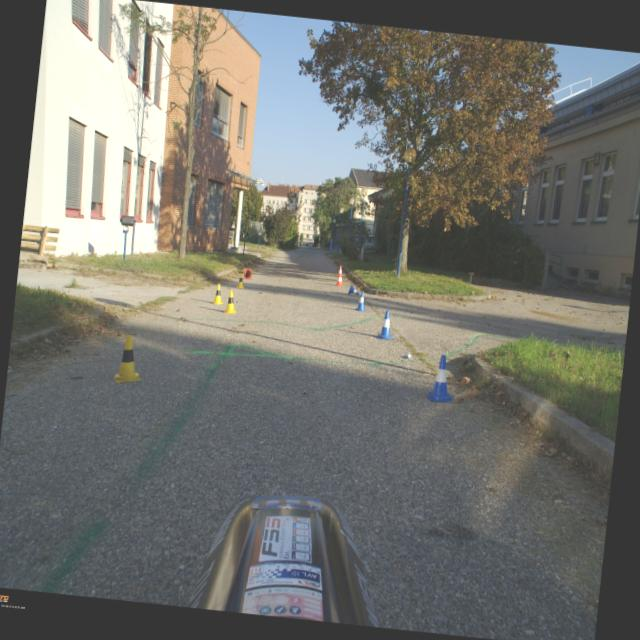blue_cone: (426, 353, 456, 402), (376, 309, 395, 340), (354, 290, 368, 311), (347, 284, 360, 296)
large_orange_cone: (334, 265, 346, 286), (242, 268, 252, 280)
yellow_cone: (113, 334, 144, 384), (223, 289, 238, 314), (211, 282, 225, 304), (236, 272, 246, 289)
